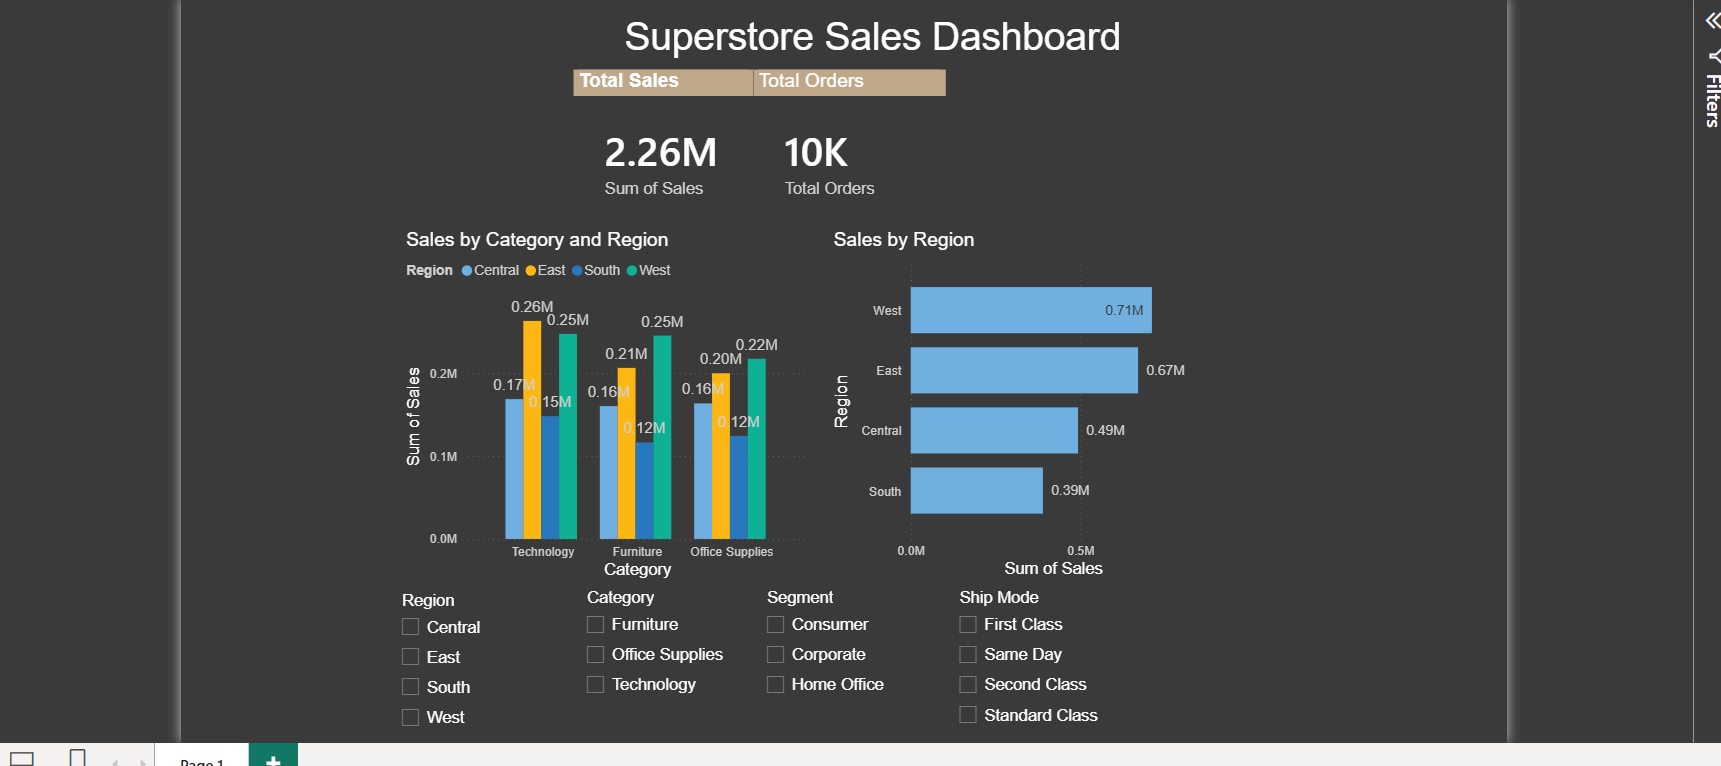

The dashboard page shown, as its layout file describes it:
{"tool":"powerbi","page":{"name":"Superstore Sales Dashboard PWIX","canvas":[1280,720],"ordinal":0},"visuals":[{"type":"cardVisual","title":"Total Sales","fields":{"Data":["Sum(project 1.Sales)"]},"box":[378.8,70,173.7,153.2],"z":0},{"type":"cardVisual","title":"Total Orders","fields":{"Data":["project 1.Total Orders"]},"box":[552.5,70,185.8,153.2],"z":1000},{"type":"clusteredColumnChart","title":"Sales by Category and Region","fields":{"Category":["project 1.Category"],"Y":["Sum(project 1.Sales)"],"Series":["project 1.Region"]},"box":[212.8,223.8,397.4,342.4],"z":2000},{"type":"clusteredBarChart","title":"Sales by Region","fields":{"Category":["project 1.Region"],"Y":["Sum(project 1.Sales)"]},"box":[624.9,223.8,374.2,342.4],"z":2001},{"type":"textbox","box":[328.2,12.1,679.2,57.9],"z":2002},{"type":"slicer","fields":{"Values":["project 1.Region"]},"box":[200.5,568.6,161.4,151.6],"z":2003},{"type":"slicer","fields":{"Values":["project 1.Category"]},"box":[379.1,566.2,173.6,154.1],"z":2004},{"type":"slicer","fields":{"Values":["project 1.Segment"]},"box":[552.7,566.2,173.6,154.1],"z":2005},{"type":"slicer","fields":{"Values":["project 1.Ship Mode"]},"box":[738.3,565.8,173.7,154.4],"z":2006}]}

Visuals, with their boxes on the page's 1280x720 design canvas (x1, y1, x2, y2). These are canvas units, not pixel positions in the 1721x766 screenshot, which may show the page scaled, cropped or inside an application window:
"Total Sales" cardVisual: select_region(379, 70, 552, 223)
"Total Orders" cardVisual: select_region(552, 70, 738, 223)
"Sales by Category and Region" clusteredColumnChart: select_region(213, 224, 610, 566)
"Sales by Region" clusteredBarChart: select_region(625, 224, 999, 566)
textbox: select_region(328, 12, 1007, 70)
slicer - project 1.Region: select_region(200, 569, 362, 720)
slicer - project 1.Category: select_region(379, 566, 553, 720)
slicer - project 1.Segment: select_region(553, 566, 726, 720)
slicer - project 1.Ship Mode: select_region(738, 566, 912, 720)
